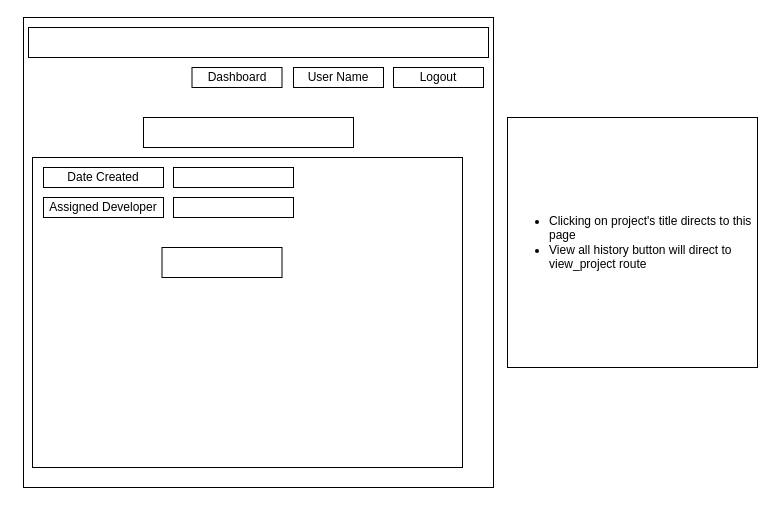
Image size: 775x505. Some labels were removed from this diagram. Here are the shapes that lost their labels. From the top down, the centre of each, then its label:
At [258,42]: "www.projecttracker.com/project_summary".
At [248,132]: "Project Summary".
At [221,262]: "View All History".
